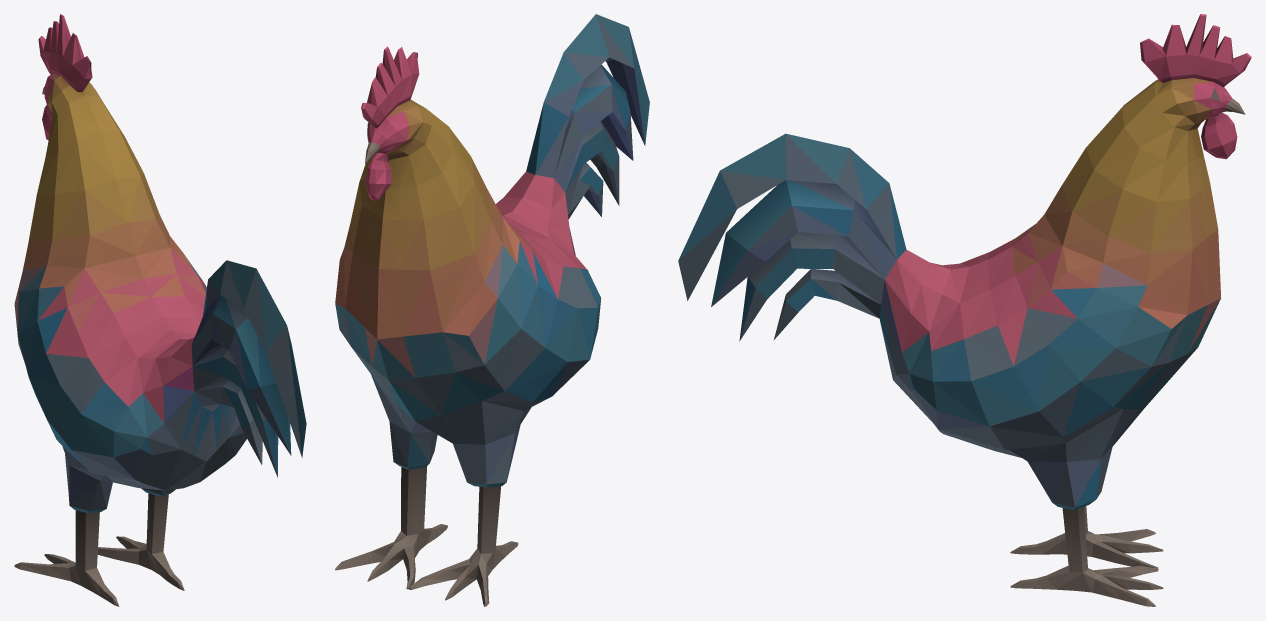
File: sporenhahn.glb
3 views of the same model, side by side, from view 1: azimuth 30°, elevation 25°; view 2: azimuth 150°, elevation 25°; view 3: azimuth 270°, elevation 25° (orthographic). The views are drawn at different scales.
Visible parts, largest first — view 1: Rooster_mesh; view 2: Rooster_mesh; view 3: Rooster_mesh.
Boxes of the visible parts, <box> form: Rooster_mesh: <box>14,14,306,606</box>; Rooster_mesh: <box>335,14,649,606</box>; Rooster_mesh: <box>678,14,1251,606</box>.
Size of the model in its own units: 0.356 by 0.959 by 0.8964.
